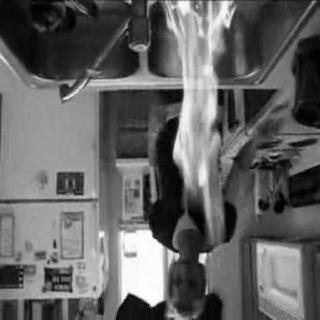Fire: (152, 2, 256, 275)
